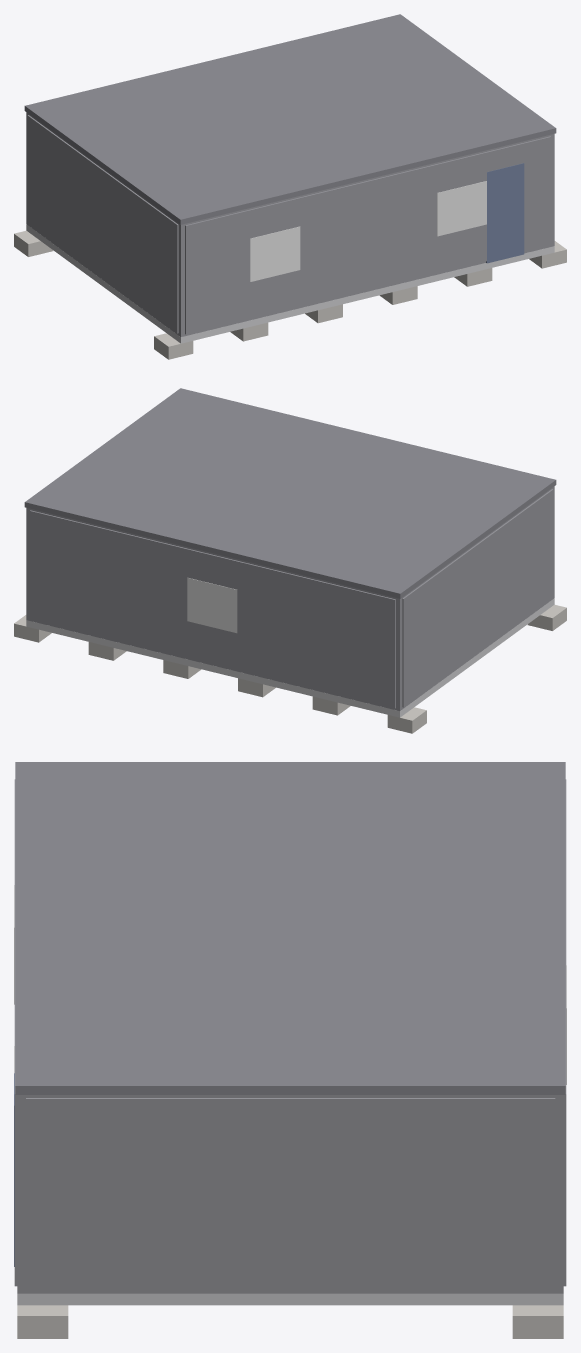
File: Studio-30-Base-AncientWallGrey-LOD1.glb
The picture shows the model from 3 angles, top to bottom: view 1: azimuth 30°, elevation 25°; view 2: azimuth 150°, elevation 25°; view 3: azimuth 270°, elevation 25°; orthographic projection. The views are drawn at different scales.
Parts seen in each view (by area): view 1: RoofMain, ExteriorPanelsStandard, WindowsStandard, BaseFrame, FoundationBlocks, EntryDoor, ExteriorShell; view 2: RoofMain, ExteriorPanelsStandard, BaseFrame, FoundationBlocks, ExteriorShell, WindowsStandard; view 3: RoofMain, ExteriorPanelsStandard, BaseFrame, ExteriorShell, FoundationBlocks.
Part boxes in pixels (x1,y1,x2,y2): RoofMain: [24, 14, 556, 224]; ExteriorPanelsStandard: [27, 115, 551, 334]; WindowsStandard: [250, 181, 486, 281]; BaseFrame: [26, 224, 554, 343]; FoundationBlocks: [14, 230, 566, 359]; EntryDoor: [486, 163, 524, 263]; ExteriorShell: [26, 112, 554, 336]; RoofMain: [24, 388, 556, 598]; ExteriorPanelsStandard: [30, 489, 553, 708]; BaseFrame: [26, 598, 554, 717]; FoundationBlocks: [14, 604, 566, 733]; ExteriorShell: [26, 486, 554, 710]; WindowsStandard: [187, 577, 237, 633]; RoofMain: [15, 762, 565, 1094]; ExteriorPanelsStandard: [14, 779, 566, 1290]; BaseFrame: [17, 1293, 563, 1305]; ExteriorShell: [17, 1095, 563, 1293]; FoundationBlocks: [17, 1305, 563, 1338].
Bounding box in the file's own units: 9.6 × 3.17 × 6.53.
